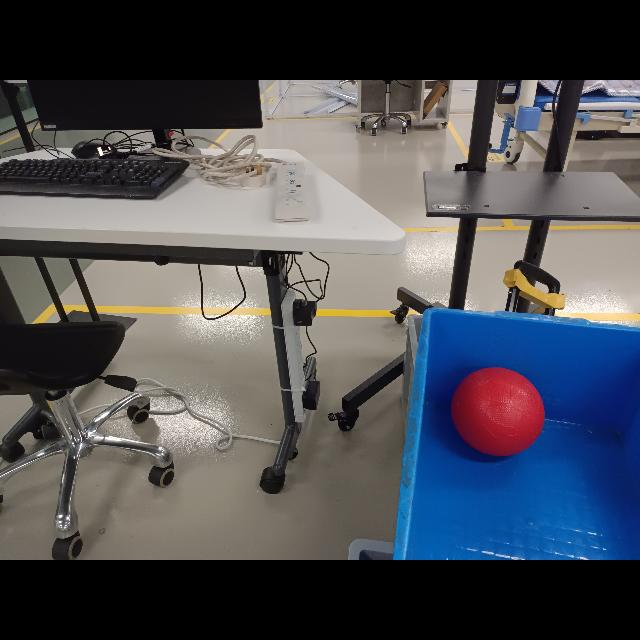R: (448, 368, 544, 458)
